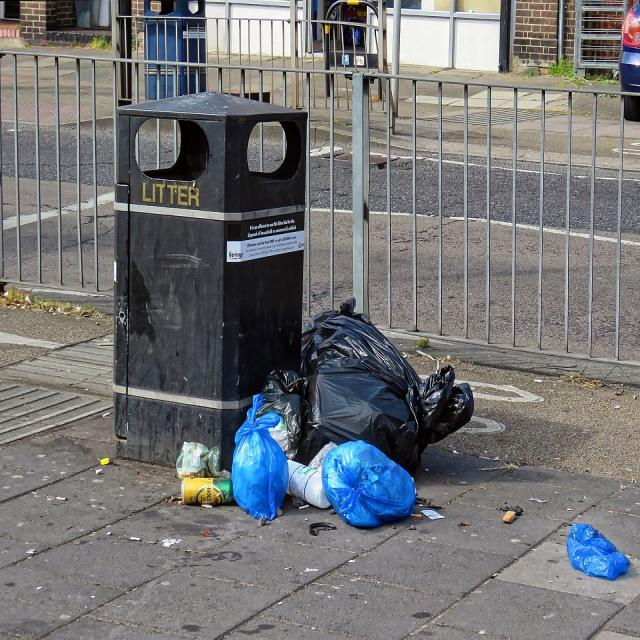garbage: (180, 293, 482, 551)
